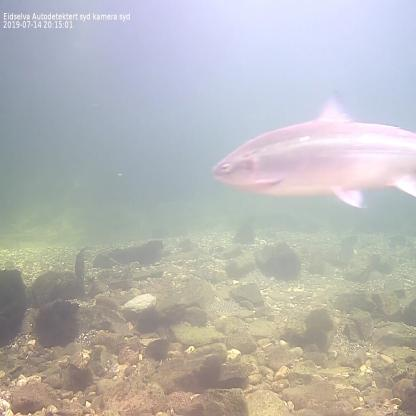salmon: (208, 87, 416, 217)
